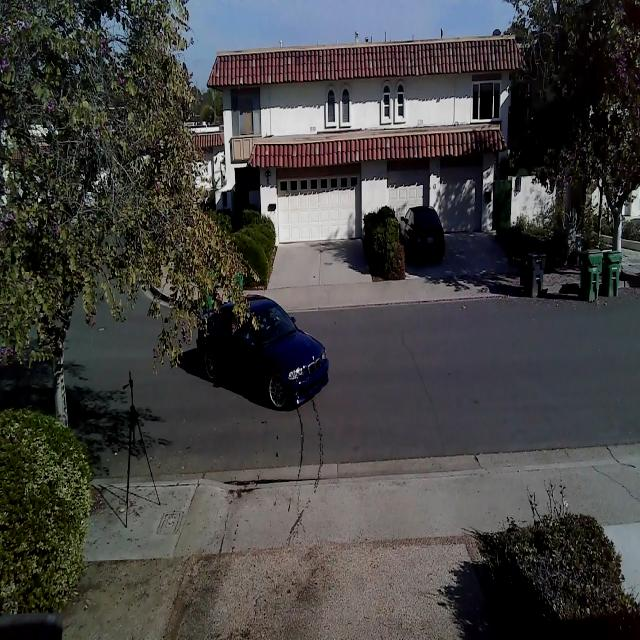Carbeetle: (192, 287, 333, 420)
Civilian: (397, 206, 445, 264)
